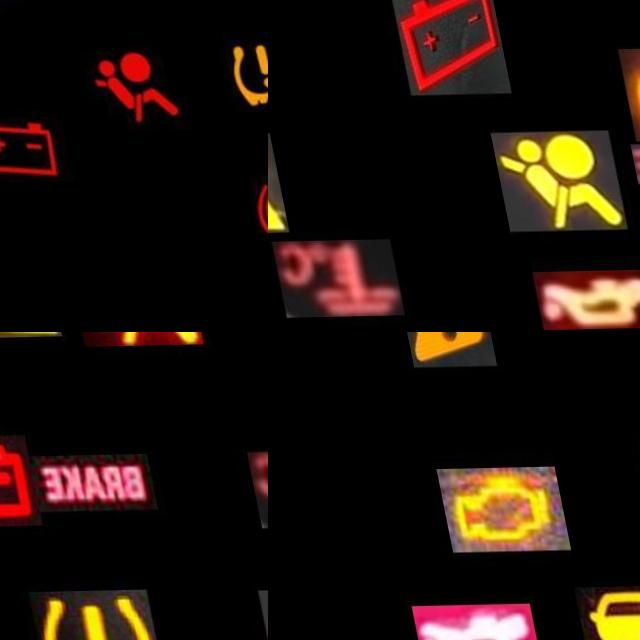Central Warning lamp: (383, 332, 485, 368)
Engine cooling system: (268, 240, 390, 318), (231, 452, 268, 530)
